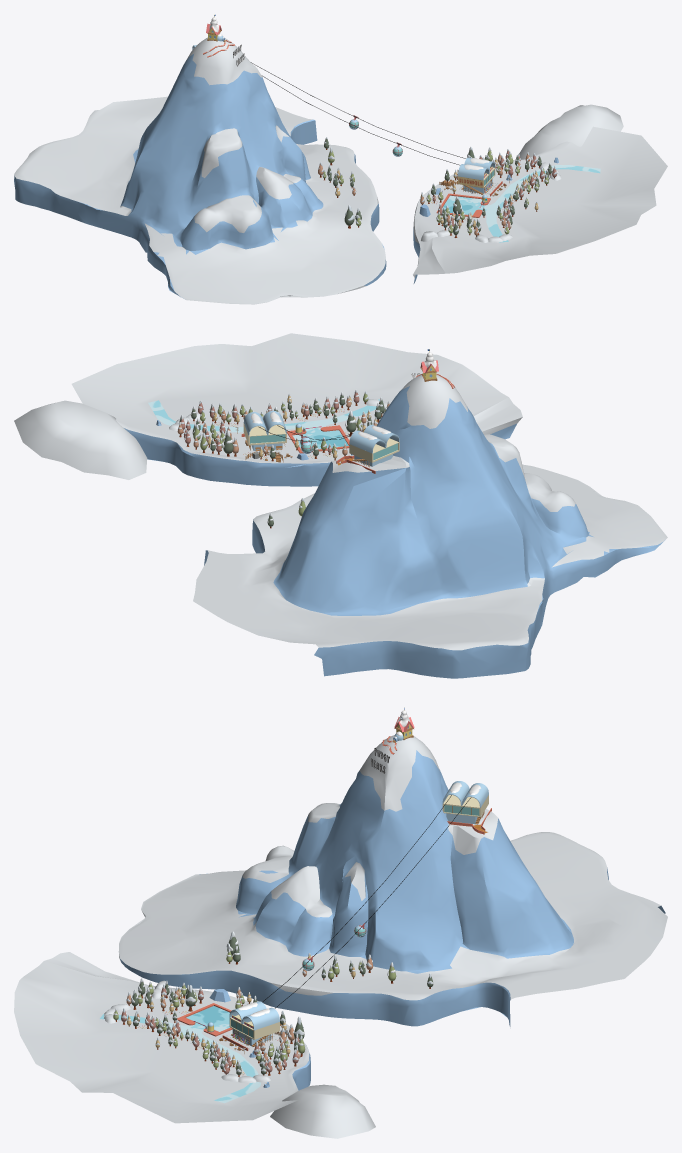
The model's file is Individual_PudgyPeaks_02.fbx.
3 views of the same model, one above another, from view 1: azimuth 30°, elevation 25°; view 2: azimuth 150°, elevation 25°; view 3: azimuth 270°, elevation 25° (orthographic). The views are drawn at different scales.
Visible parts, largest first — view 1: pasted__pasted__pasted__Berg, pasted__pasted__SnowPatch10, pasted__pasted__Building_Gloondola_Top2; view 2: pasted__pasted__pasted__Berg, pasted__pasted__SnowPatch10, pasted__pasted__Building_Gloondola_Top, pasted__pasted__Building_Gloondola_Top2; view 3: pasted__pasted__pasted__Berg, pasted__pasted__SnowPatch10, pasted__pasted__Building_Gloondola_Top, pasted__pasted__Building_Gloondola_Top2.
Part boxes in pixels (x1,y1,x2,y2): pasted__pasted__pasted__Berg: [14, 37, 667, 304]; pasted__pasted__SnowPatch10: [519, 104, 623, 159]; pasted__pasted__Building_Gloondola_Top2: [458, 157, 495, 194]; pasted__pasted__pasted__Berg: [71, 333, 667, 678]; pasted__pasted__SnowPatch10: [14, 400, 147, 479]; pasted__pasted__Building_Gloondola_Top: [336, 424, 399, 473]; pasted__pasted__Building_Gloondola_Top2: [243, 410, 286, 450]; pasted__pasted__pasted__Berg: [14, 735, 667, 1123]; pasted__pasted__SnowPatch10: [270, 1084, 375, 1138]; pasted__pasted__Building_Gloondola_Top: [442, 781, 491, 834]; pasted__pasted__Building_Gloondola_Top2: [229, 1001, 279, 1046].
Bounding box in the file's own units: 17462 × 6297 × 15779.
